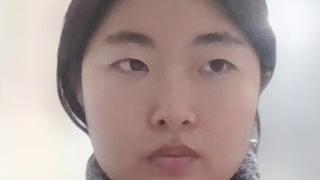eye: (210, 60, 224, 72), (131, 59, 142, 70)
iris: (111, 56, 149, 75), (199, 58, 236, 74)
